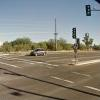Traffic light: (65, 19, 79, 50)
